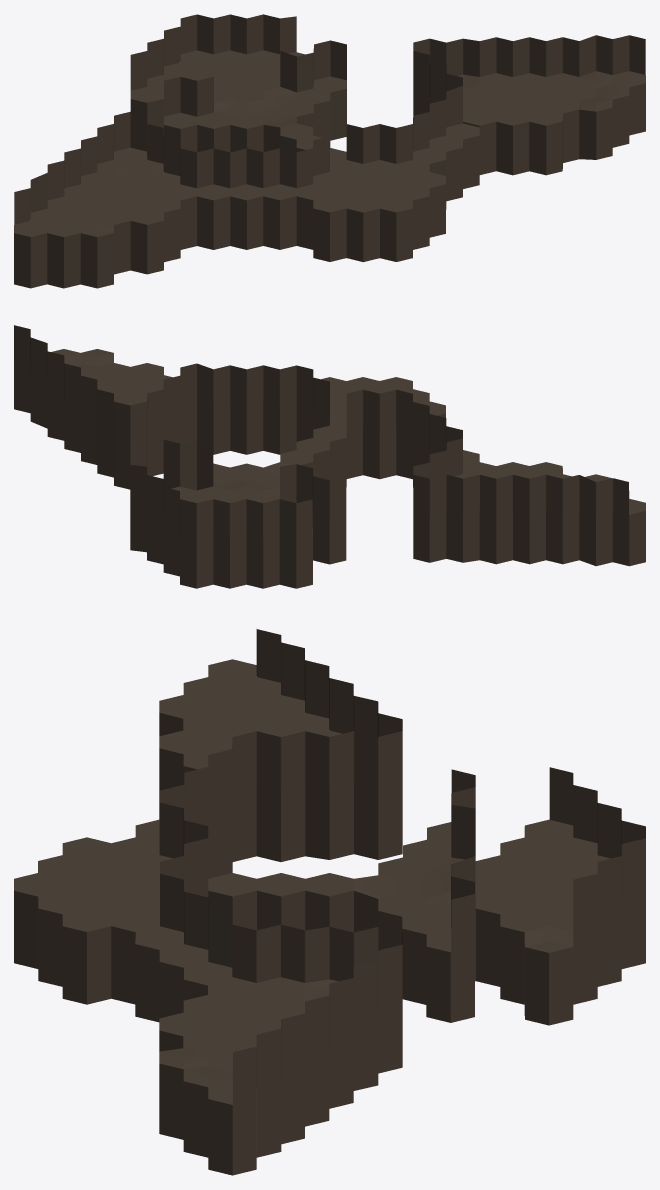
Rendered from Stage1Copy.fbx.
3 views of the same model, one above another, from view 1: azimuth 30°, elevation 25°; view 2: azimuth 150°, elevation 25°; view 3: azimuth 270°, elevation 25° (orthographic). The views are drawn at different scales.
Visible parts, largest first — view 1: StageArea; view 2: StageArea; view 3: StageArea.
Boxes of the visible parts, box(x1,y1,x2,y2) form: StageArea: box(14, 14, 645, 288); StageArea: box(14, 325, 645, 588); StageArea: box(14, 629, 645, 1175).
Bounding box in the file's own units: 343 × 47.34 × 203.
